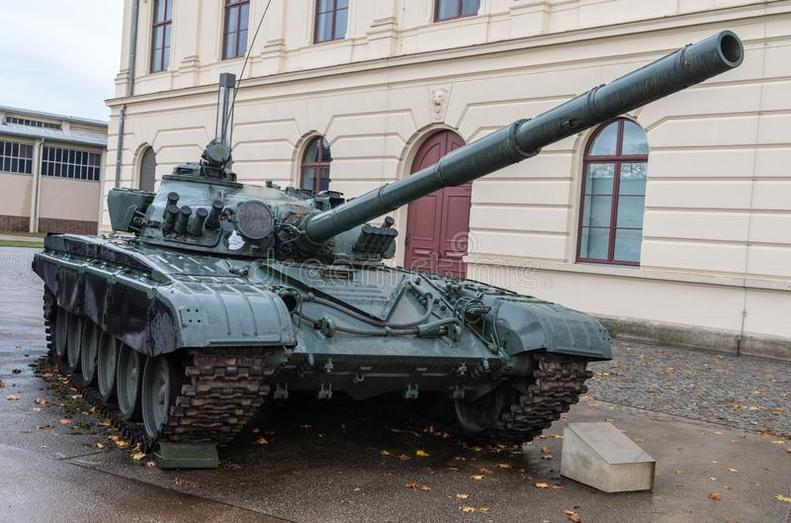t72: (38, 84, 606, 438)
